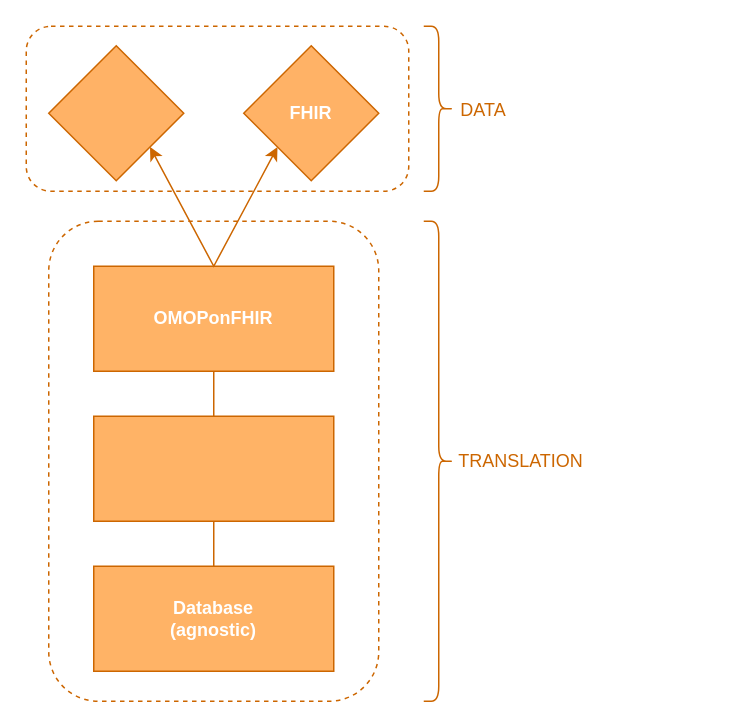
Image size: 735x728. Some labels were removed from this diagram. The centre of each missing label's shape, as x and y in pixels:
"HAPI FHIR" belongs at [213,468].
"OMOP" belongs at [115,112].
